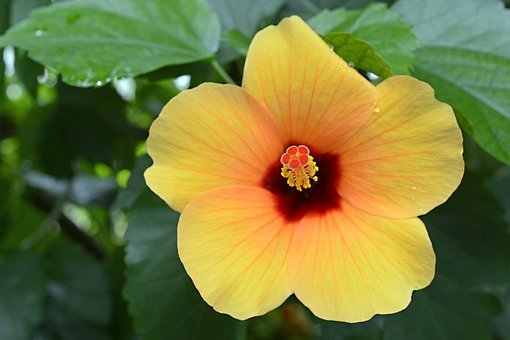Hibiscus: (148, 9, 459, 326)
